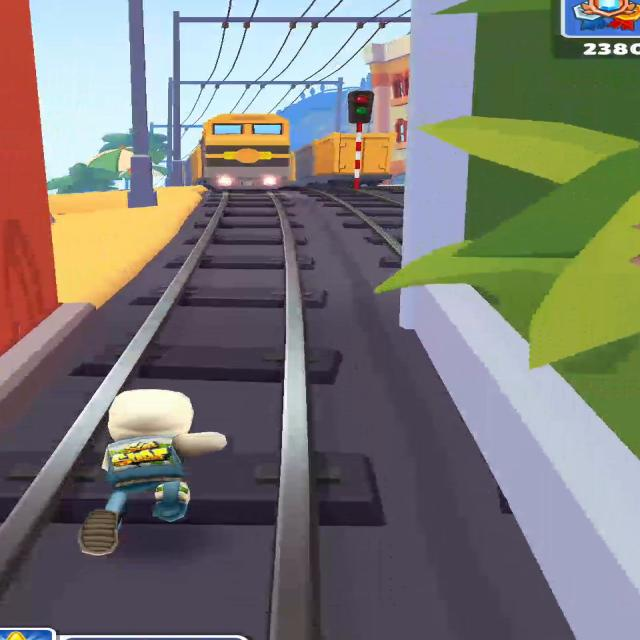block pillar: (370, 0, 637, 563)
train: (186, 114, 295, 189), (295, 132, 355, 187), (203, 114, 253, 148), (359, 133, 391, 184)
